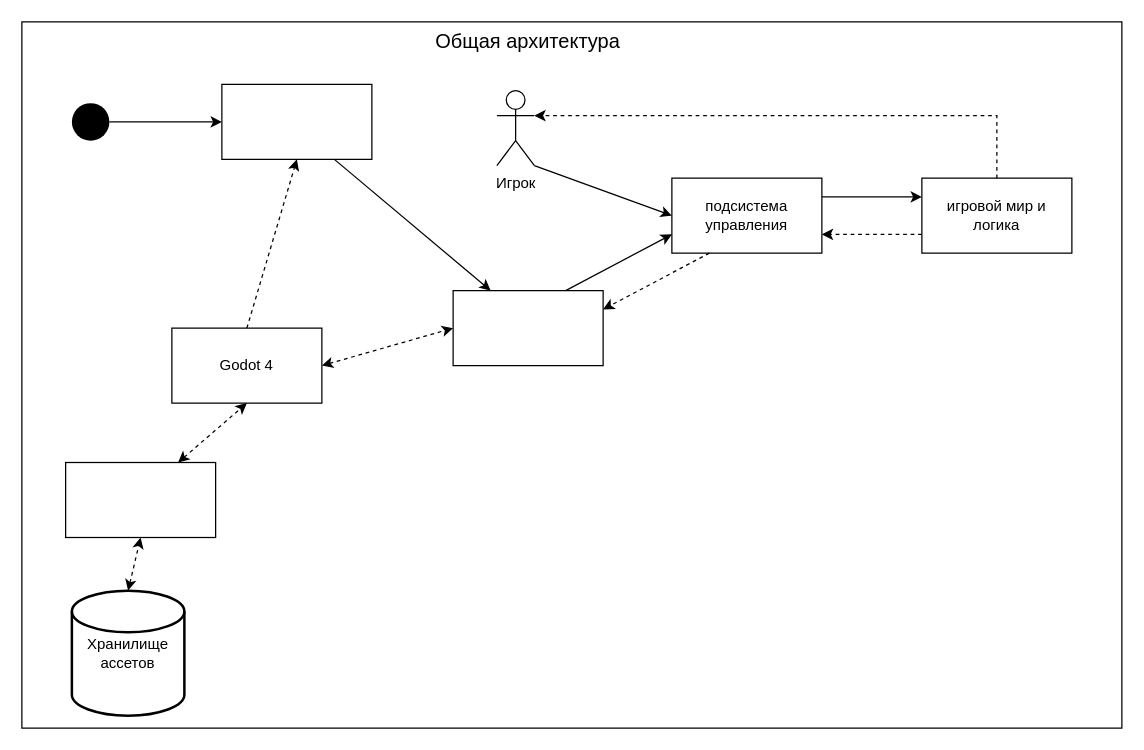
Some shapes in this 1144 by 750 pixel diagram are drawn without their labels. Each missing label, with the centre of its shape:
"Инициализация" belongs at (296,121).
"подсистема GUI" belongs at (527,327).
"работа с данными" belongs at (140,499).
